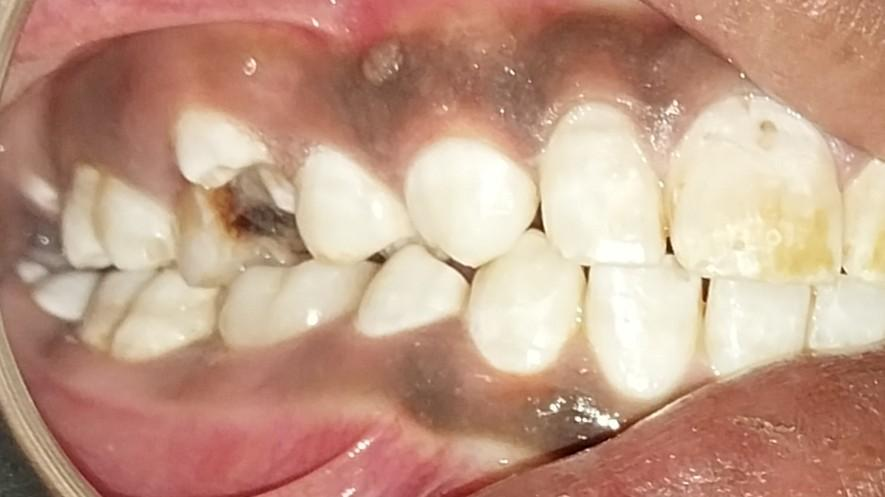d: (174, 173, 307, 273)
